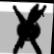not correct: (7, 1, 53, 54)
